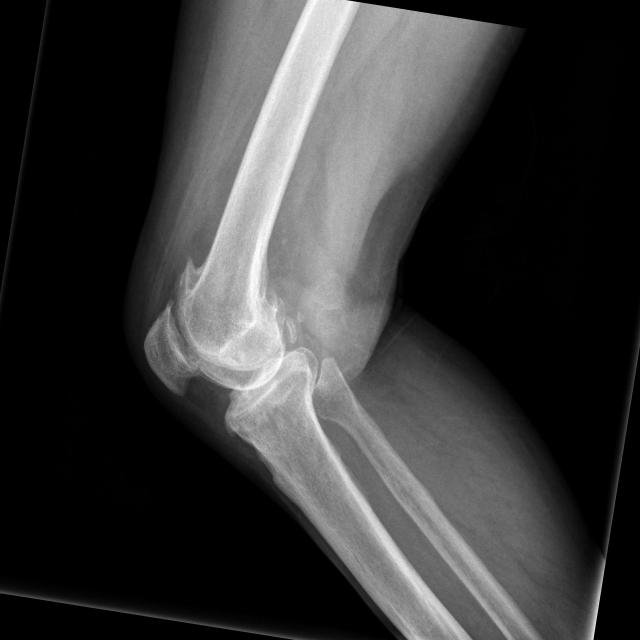Knee: (120, 244, 336, 466)
